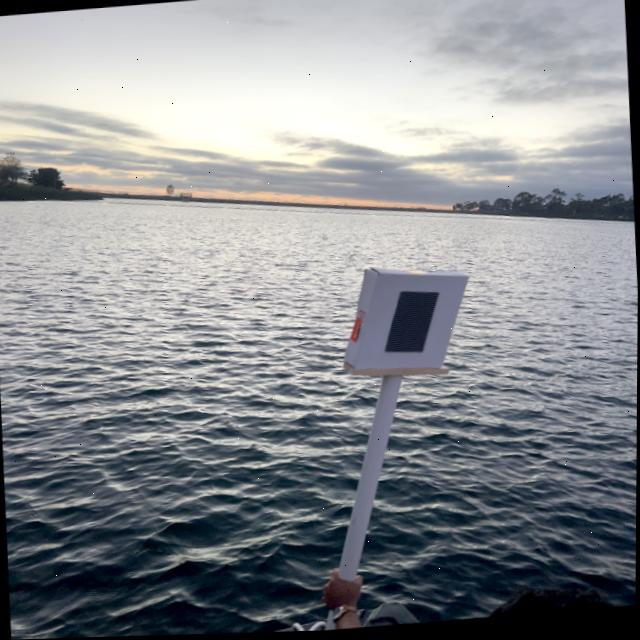led: (371, 276, 444, 378)
